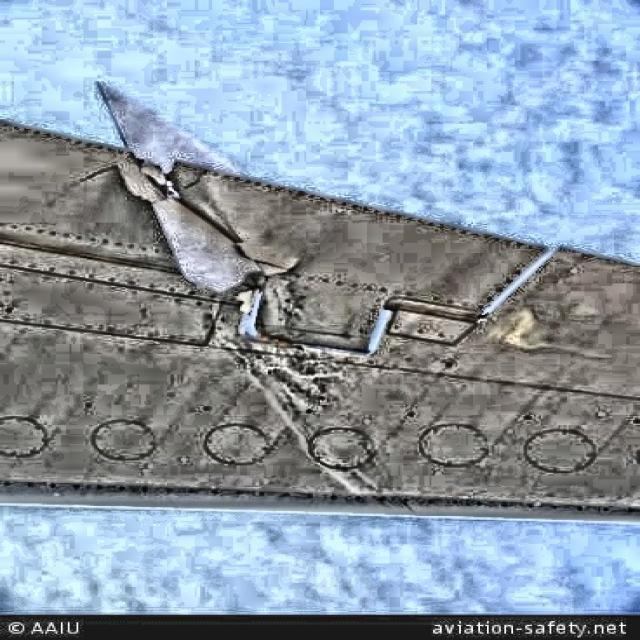crack: (70, 157, 314, 296)
